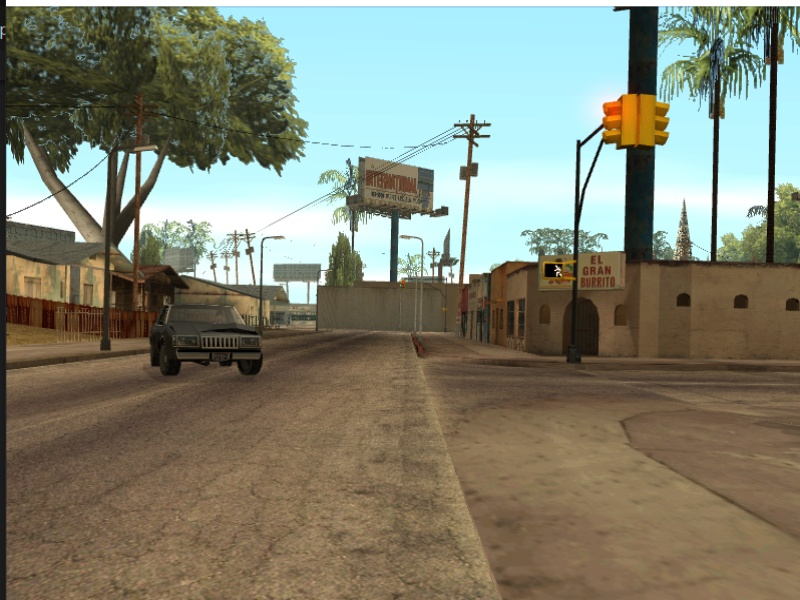pole: (452, 116, 477, 337), (568, 138, 591, 369), (98, 149, 116, 352), (415, 238, 428, 334), (257, 236, 267, 332)
vehicle: (143, 302, 268, 382)
